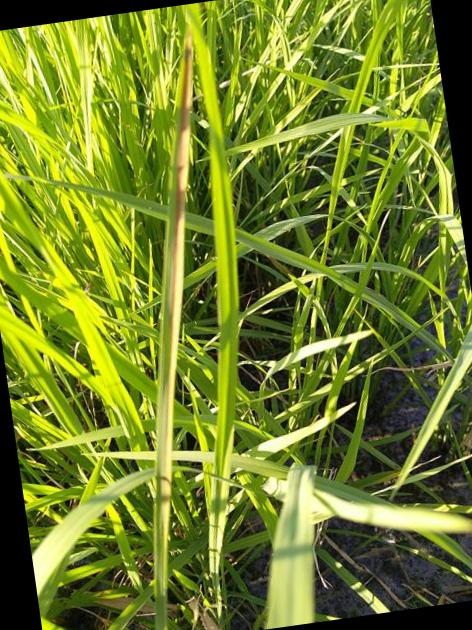Leaf Streak: (153, 37, 193, 578)
